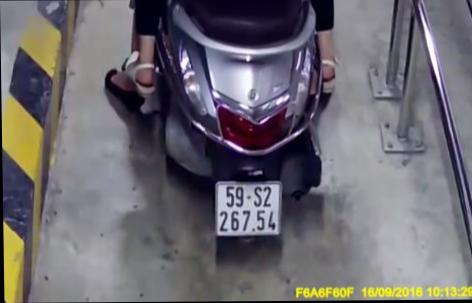LP: (214, 181, 279, 235)
